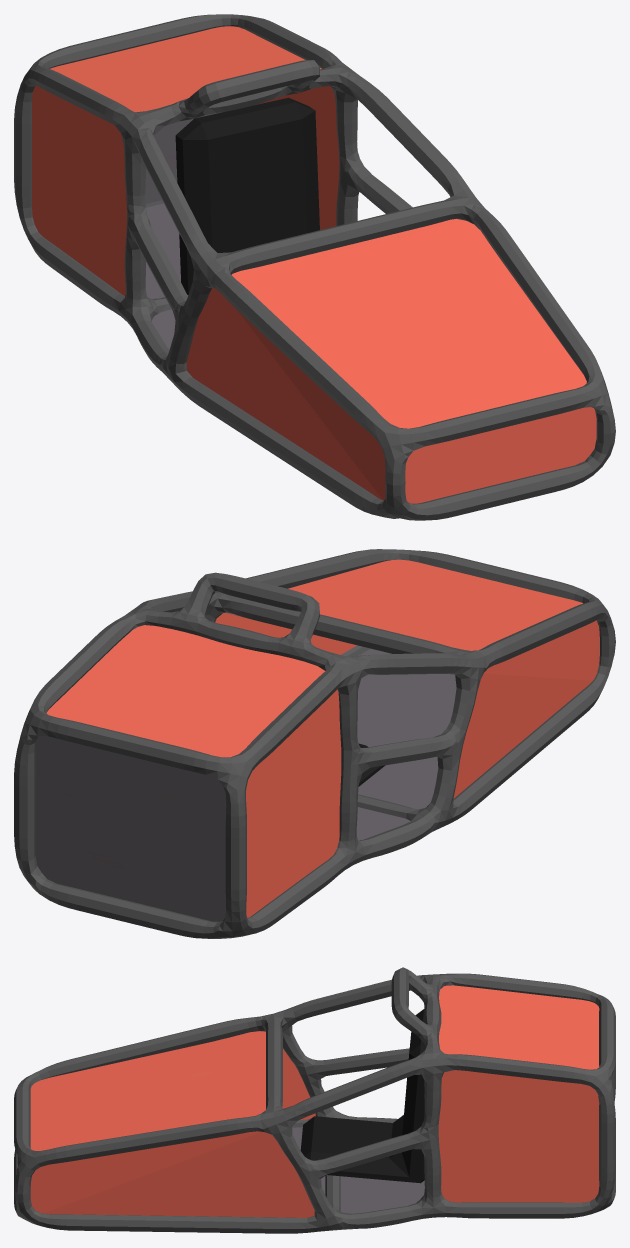
File: BasicBuggy_Chassis.dae
3 views of the same model, one above another, from view 1: azimuth 30°, elevation 25°; view 2: azimuth 150°, elevation 25°; view 3: azimuth 270°, elevation 25° (orthographic). The views are drawn at different scales.
Parts seen in each view (by area): view 1: Chassis, Chassis_RollCage, Seat; view 2: Chassis, Chassis_RollCage; view 3: Chassis, Chassis_RollCage, Seat.
Part boxes in pixels (x1,y1,x2,y2): Chassis: (32, 26, 596, 503); Chassis_RollCage: (14, 14, 615, 520); Seat: (175, 97, 319, 294); Chassis: (35, 559, 599, 921); Chassis_RollCage: (14, 549, 615, 938); Chassis: (30, 985, 599, 1217); Chassis_RollCage: (14, 967, 615, 1233); Seat: (300, 1009, 425, 1183).
Bounding box in the file's own units: 1.94 × 4.53 × 1.69.
3 materials, 1 textured.
